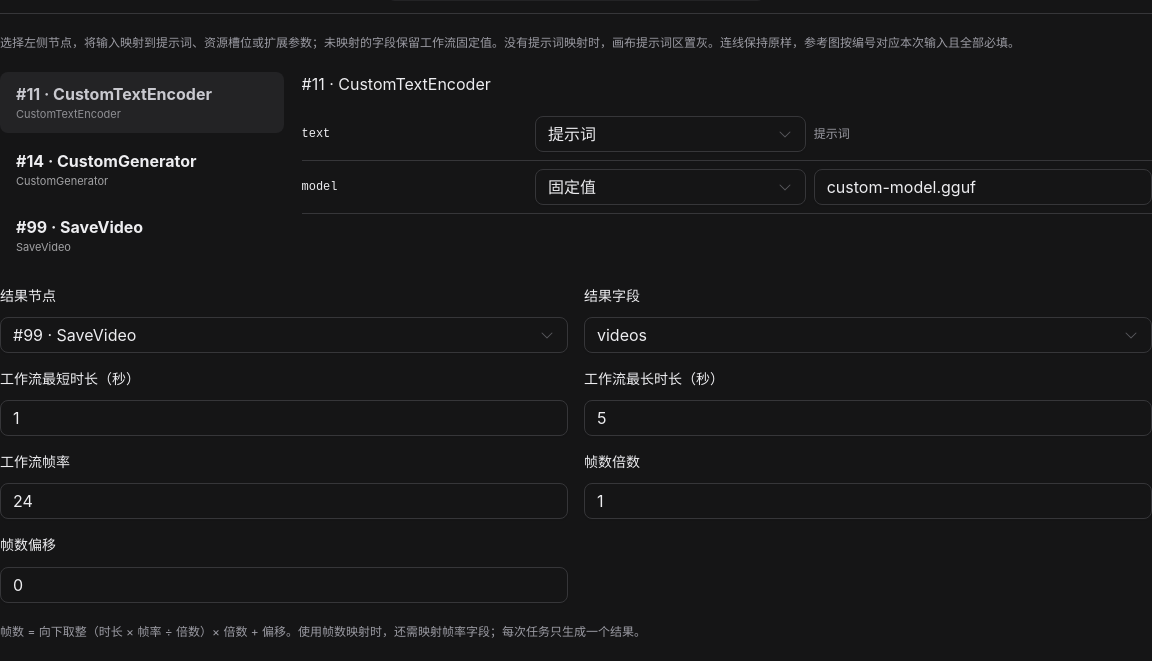
Scenario: ComfyWorkflowEditor › blocks invalid mappings and enables publishing again when the mapping is corrected
Click the button "#14 · CustomGenerator CustomGenerator". click: (142, 169)
box: [0, 138, 284, 199]
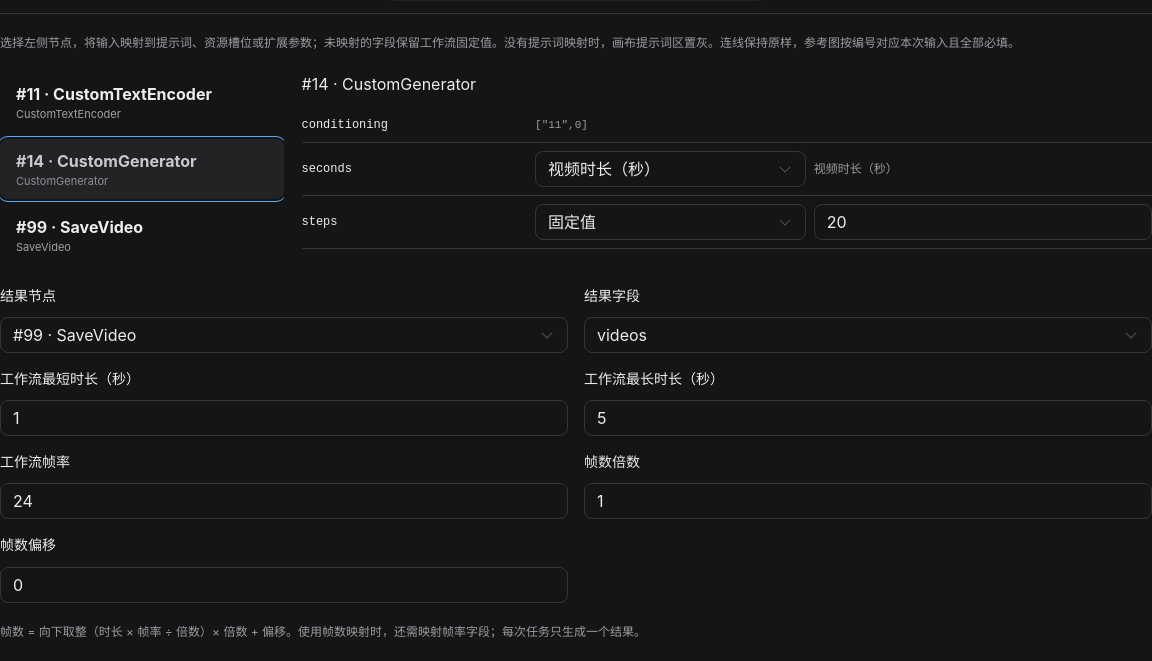
Click the dropdown named "seconds 的参数来源". click: (604, 169)
box: [535, 151, 806, 187]
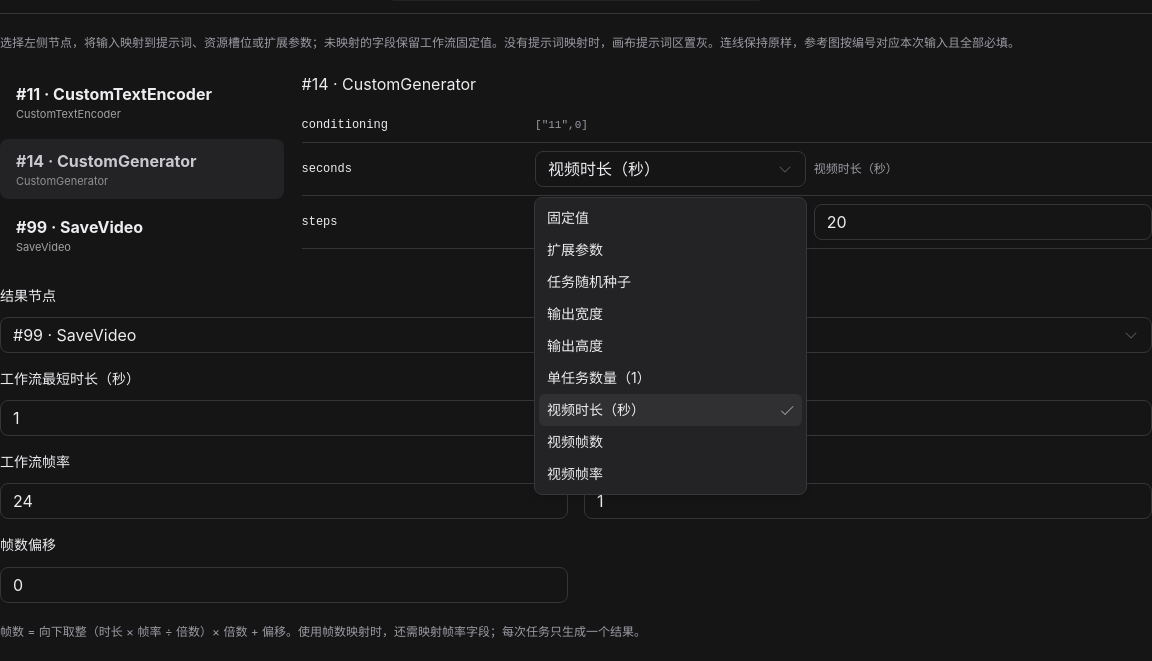
Click the option "固定值". click: (568, 218)
box: [547, 209, 589, 226]
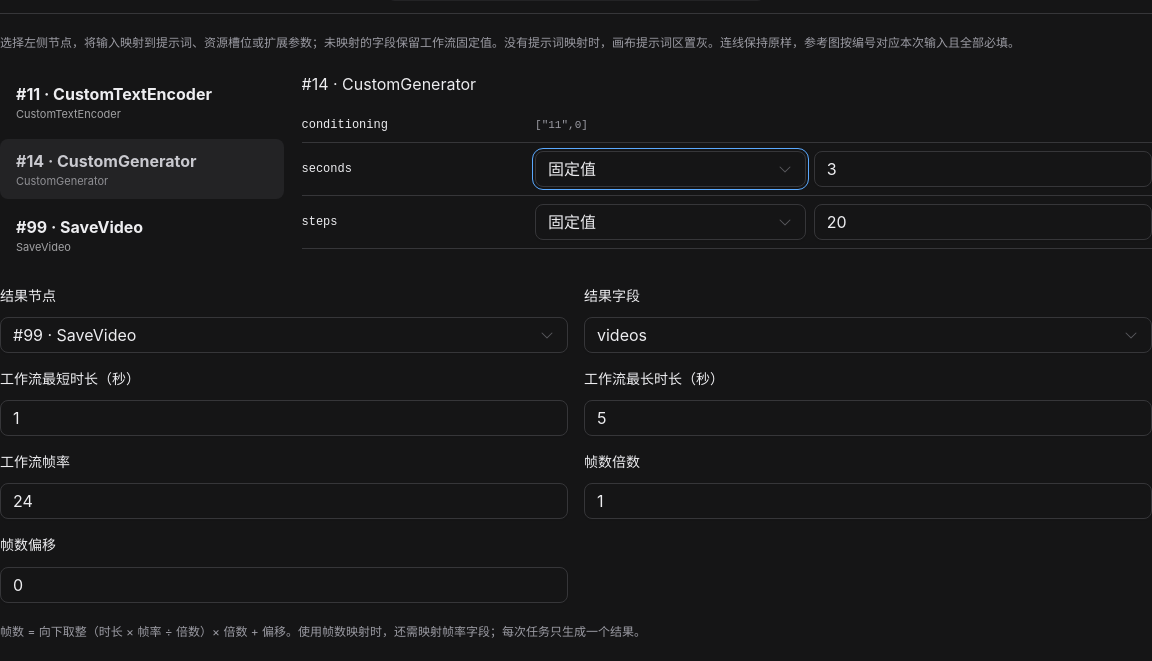
Click the dropdown named "seconds 的参数来源". click: (572, 169)
box: [535, 151, 806, 187]
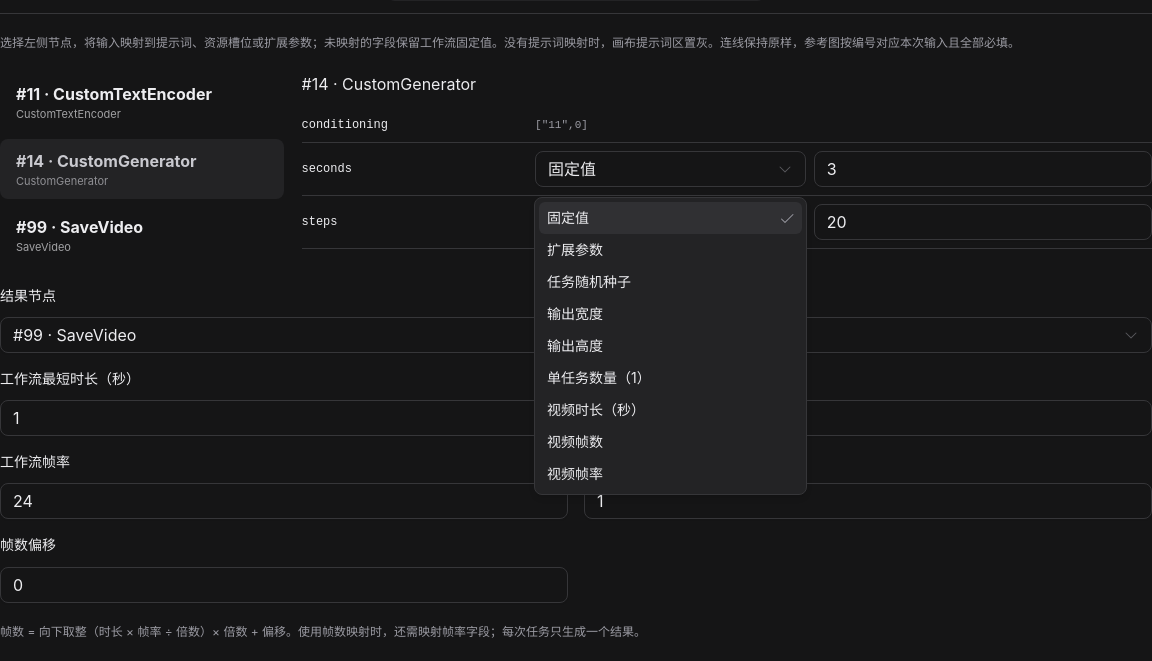
Click the option "视频时长（秒）". click: (596, 410)
box: [547, 401, 645, 418]
(page scrolled)
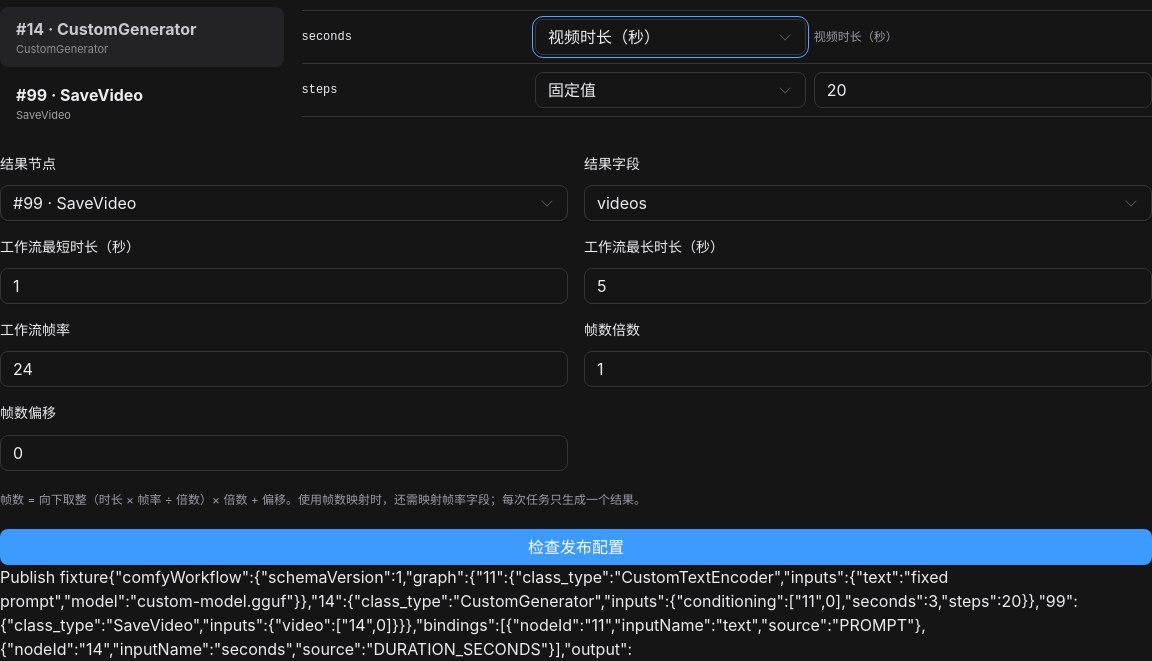
Now the button "Publish fixture" is enabled, box [0, 564, 108, 588]
Now the button "检查发布配置" is enabled, box [0, 528, 1151, 564]
